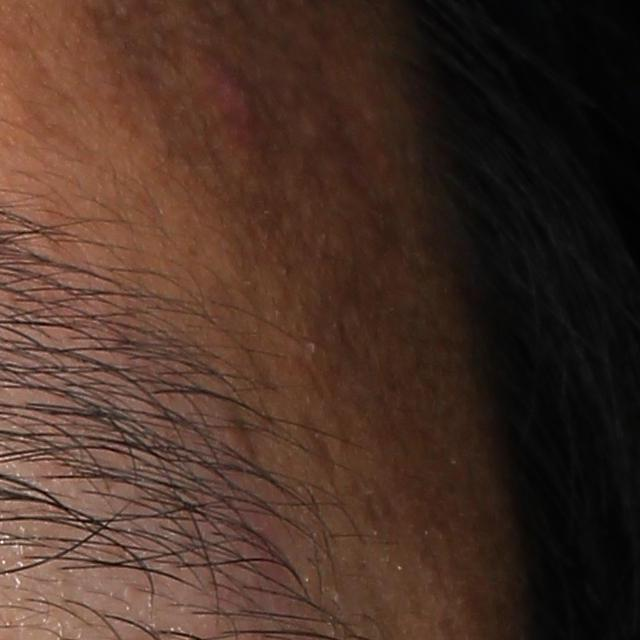papule: (207, 48, 254, 134)
